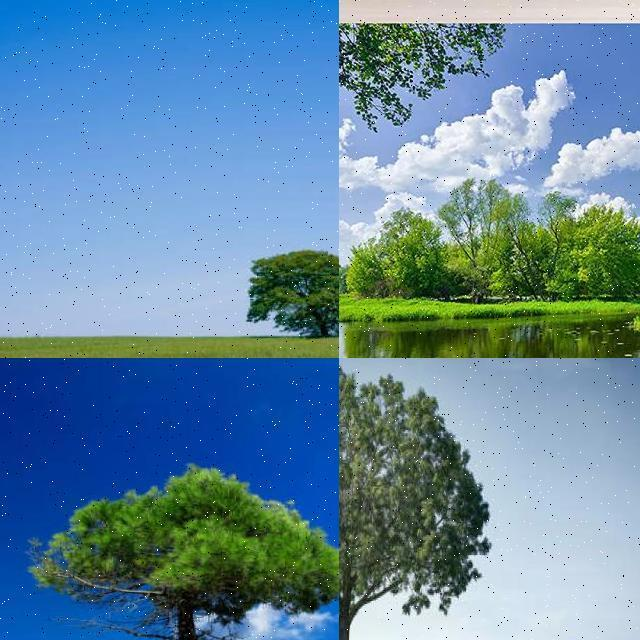tree: (27, 460, 339, 640), (338, 358, 502, 640), (528, 192, 640, 298), (441, 180, 525, 300), (249, 246, 339, 336), (351, 211, 442, 295)
